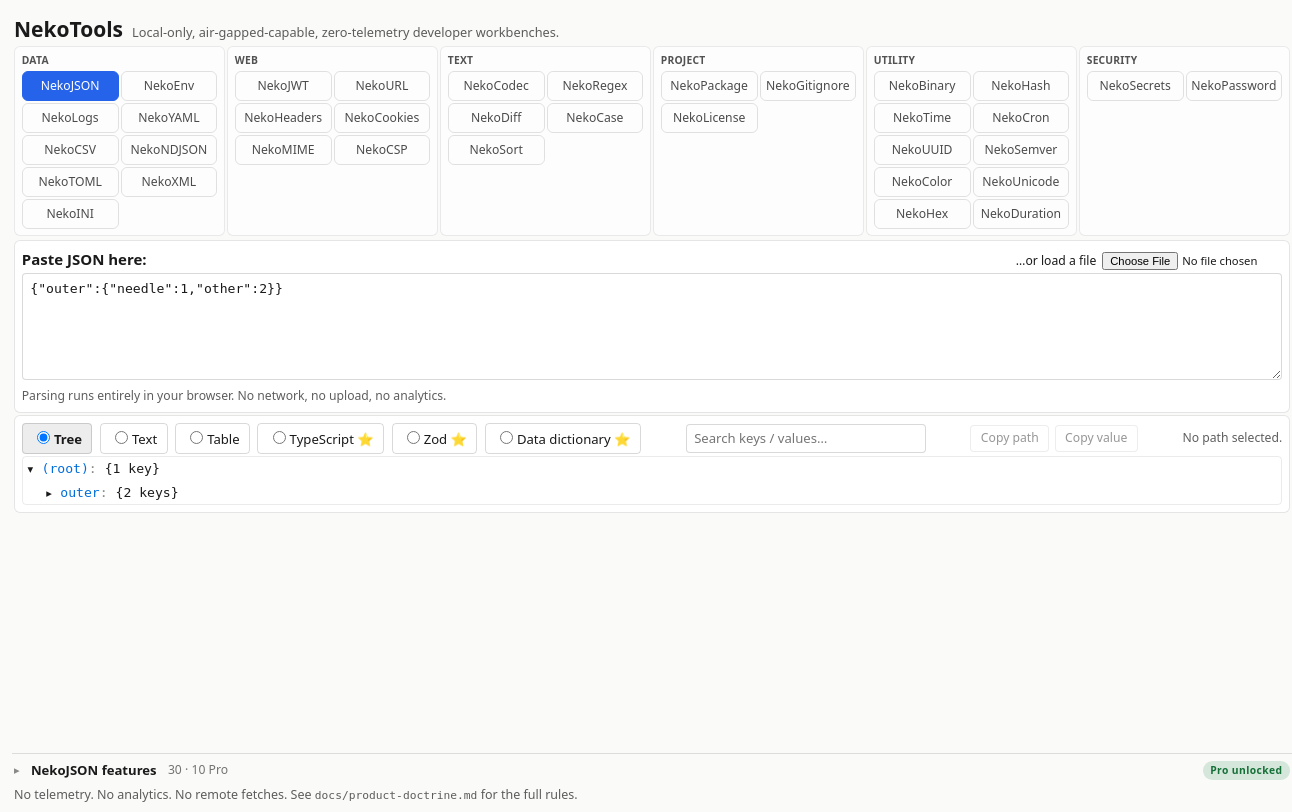
App integration › Phase 1.1g: search input filters tree rows
In the search field with test id "search-input": point(806, 439) [686,424,926,453], type "needle"
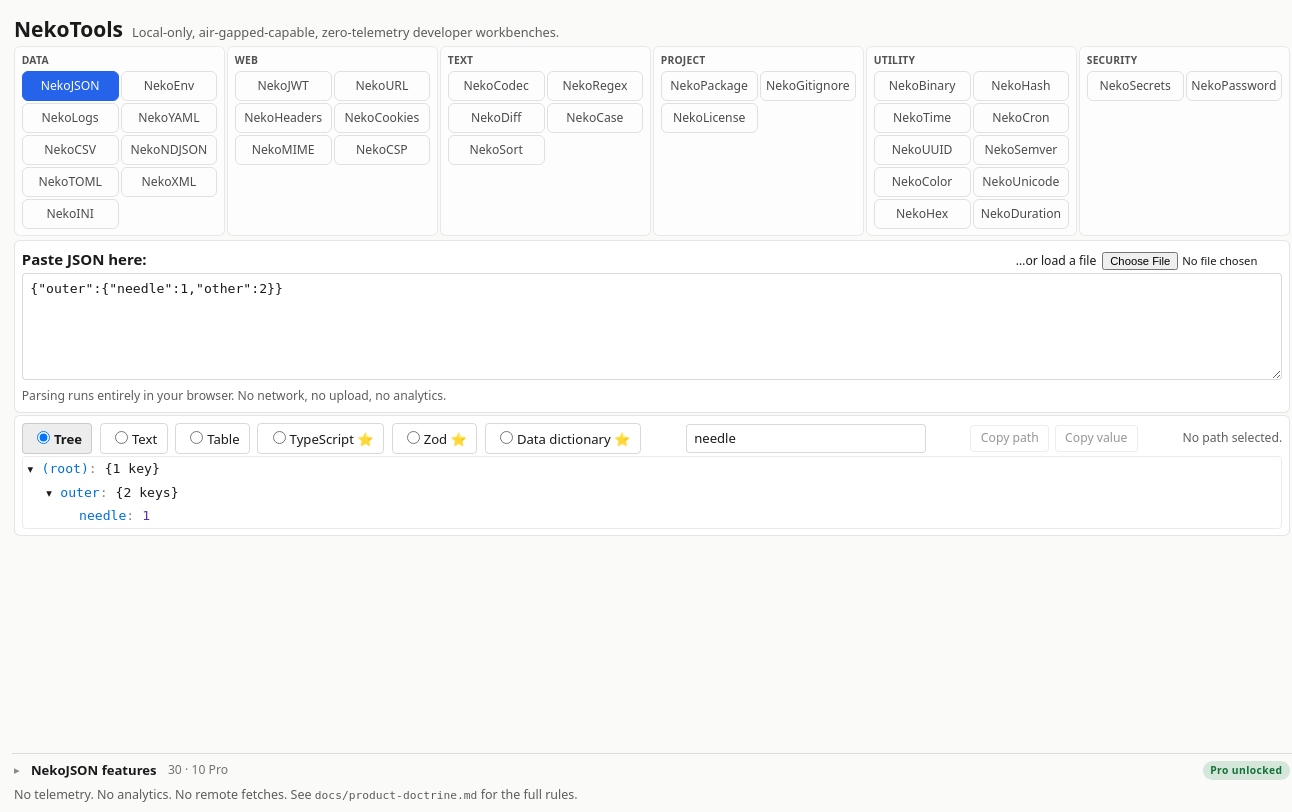
Check: the list shows "outer", box [60,482,1274,502]
Check: the list shows "needle", box [79,506,1274,526]
